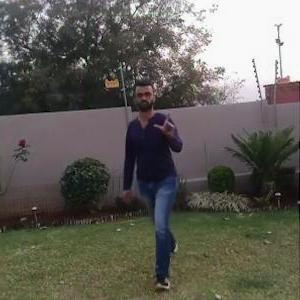land_hand: (151, 107, 182, 135)
